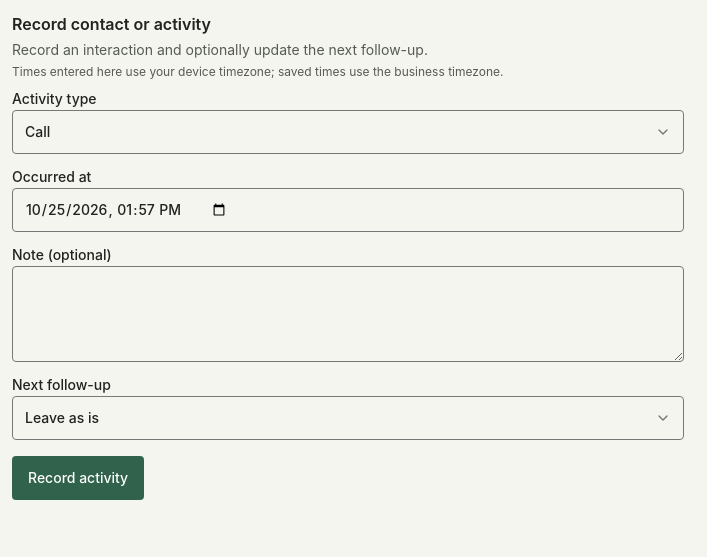
Test: contact panel › associates required-field feedback and supports keyboard submission
The width and height of the screenshot is (707, 557).
Step 1. Clear the field labelled "Occurred at" → (348, 210), box x1=12 y1=188 x2=684 y2=232
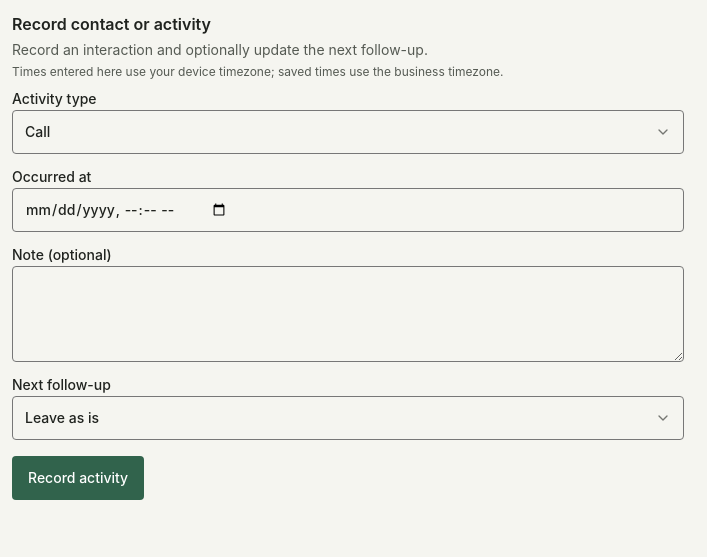
Step 2. Click the button "Record activity" → (78, 478), box x1=12 y1=456 x2=144 y2=500
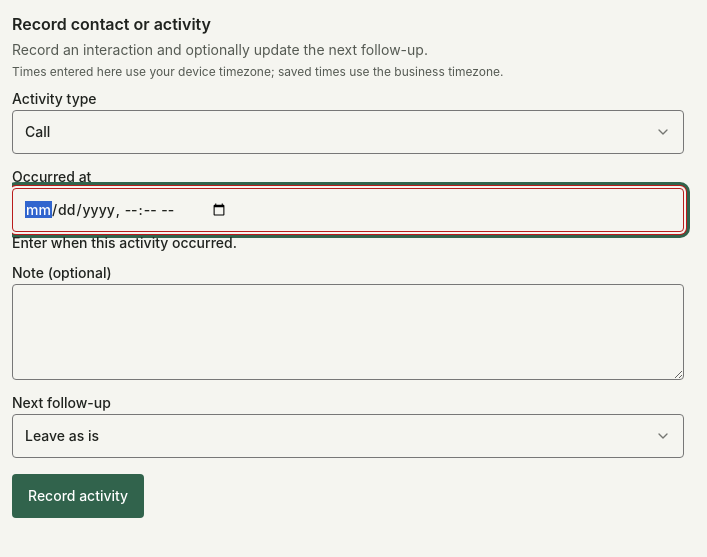
expect the text "Enter when this activity occurred." is shown: met, box x1=12 y1=234 x2=237 y2=251
Step 3. Type "2026-10-24T10:00" into the field labelled "Occurred at" → (348, 210), box x1=12 y1=188 x2=684 y2=232
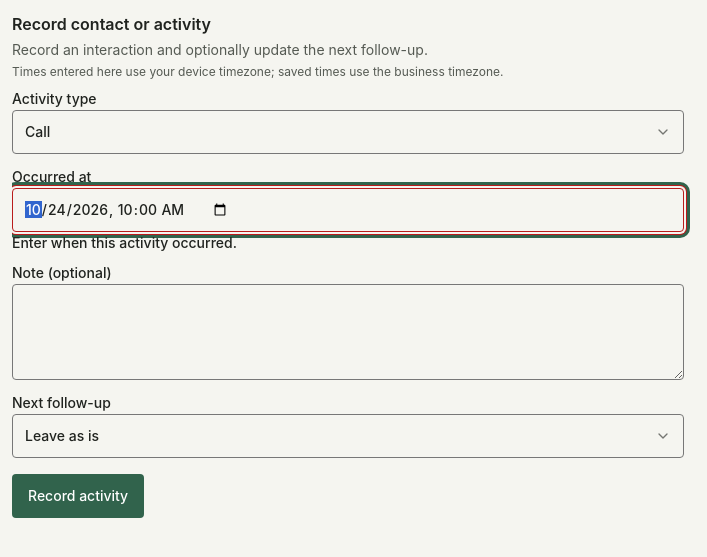
Step 4. Submit the form
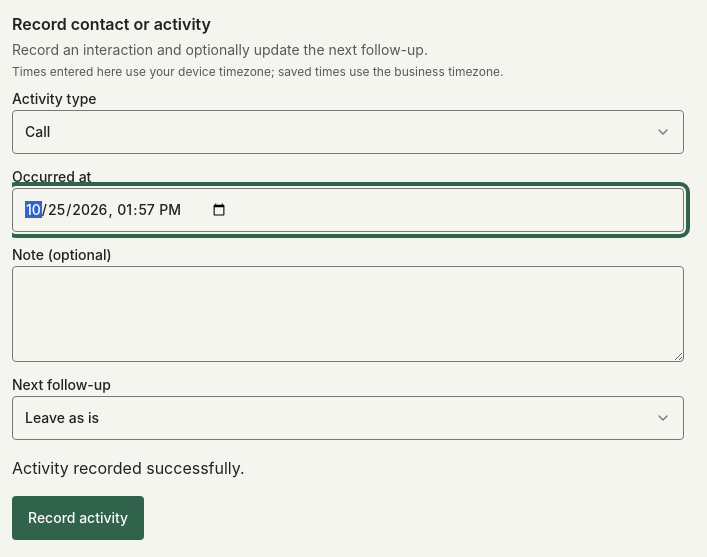
expect the text "Activity recorded successfully." is shown: met, box x1=12 y1=458 x2=245 y2=478
